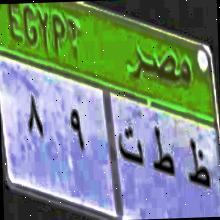8: (24, 88, 45, 144)
9: (63, 106, 89, 165)
Taa: (148, 121, 176, 198)
Thaa: (184, 130, 212, 202)
taa: (114, 118, 144, 175)
